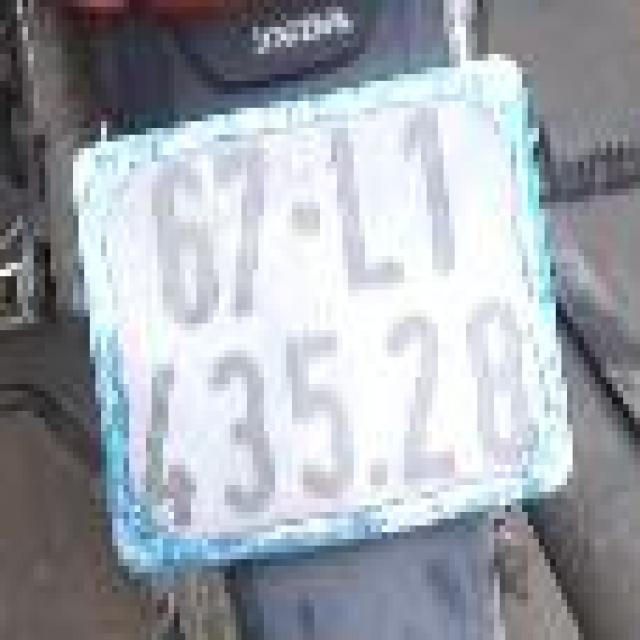1: (398, 101, 461, 283)
2: (379, 303, 463, 499)
3: (202, 337, 286, 532)
4: (126, 354, 205, 542)
5: (278, 327, 362, 515)
6: (144, 148, 228, 330)
7: (216, 132, 289, 334)
8: (463, 293, 553, 495)
L: (306, 108, 407, 296)
